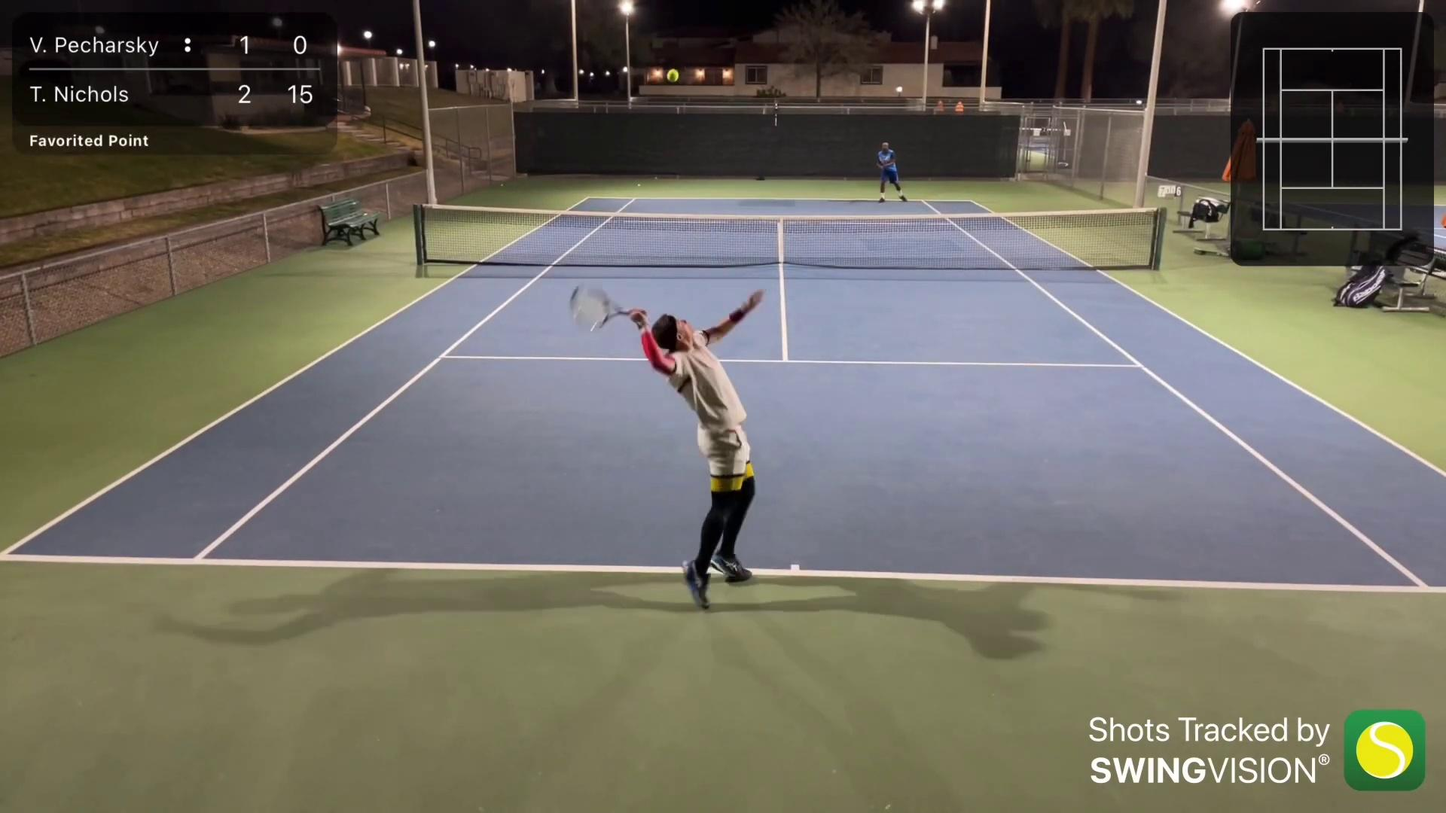ball: (665, 69, 680, 84)
